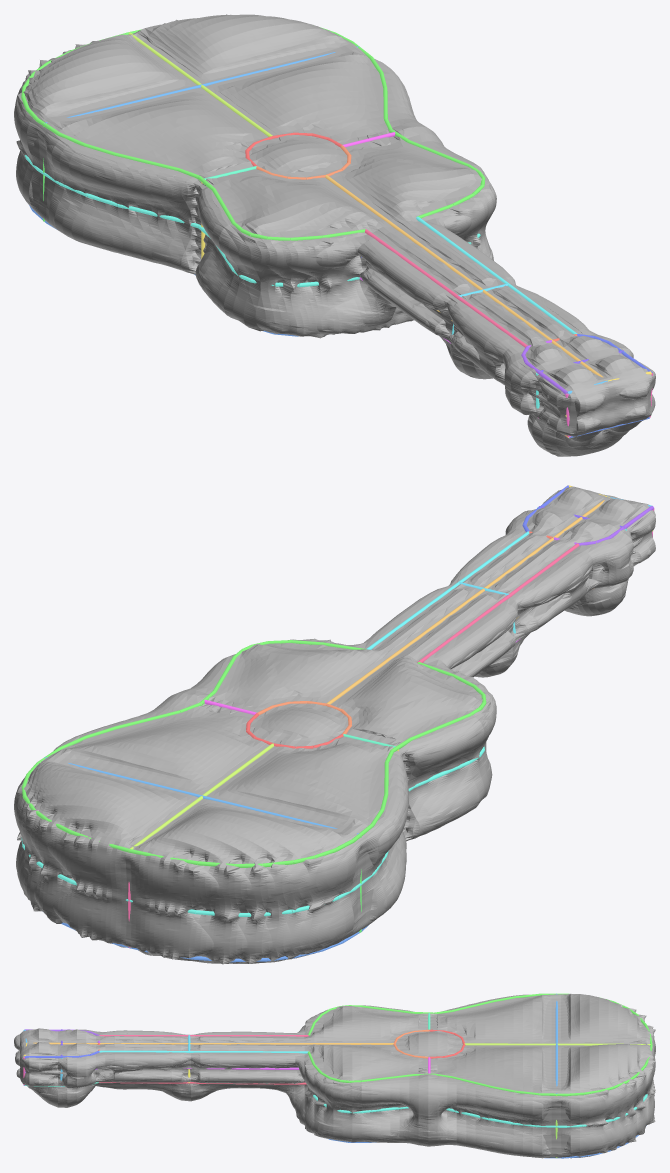
The model's file is t2f_guitar.gltf.
3 renders of one model, top to bottom at view 1: azimuth 30°, elevation 25°; view 2: azimuth 150°, elevation 25°; view 3: azimuth 270°, elevation 25°, orthographic. The views are drawn at different scales.
Bounding box in the file's own units: 0.3777 × 0.1481 × 0.9524.
